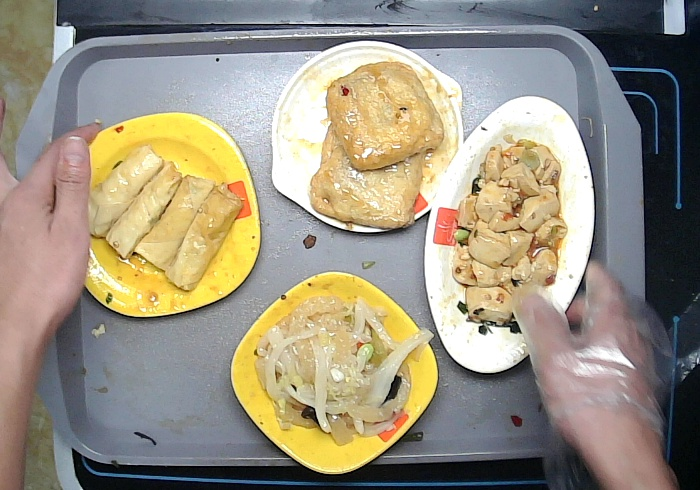SHKJ-Bao_Yu_Pan: (266, 37, 468, 238)
SHKJ-Huang_Se_Cai_Die: (226, 268, 442, 479)
SHKJ-Huang_Se_Si_Fang_Cai_Die: (63, 109, 266, 320)
SHKJ-Yu_Pan: (420, 90, 600, 376)
